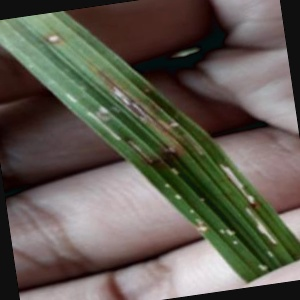Brown_Spot: (91, 55, 156, 125), (114, 123, 155, 172), (33, 27, 69, 51)
